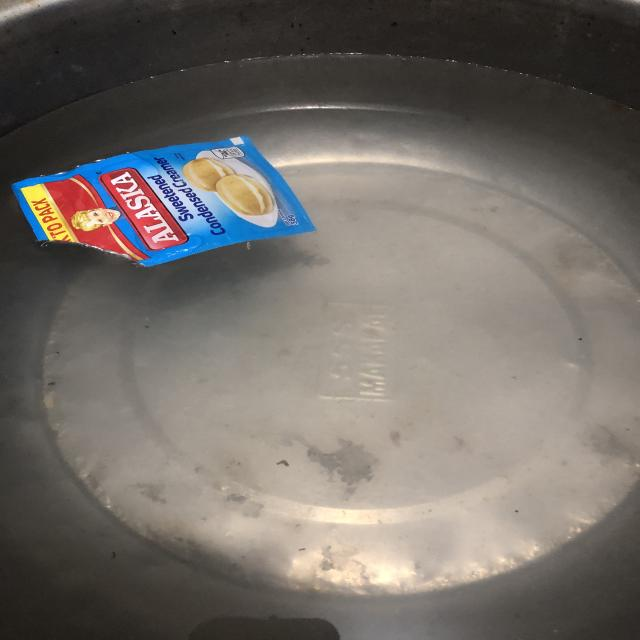Plastic Wrapper: (0, 114, 345, 280)
